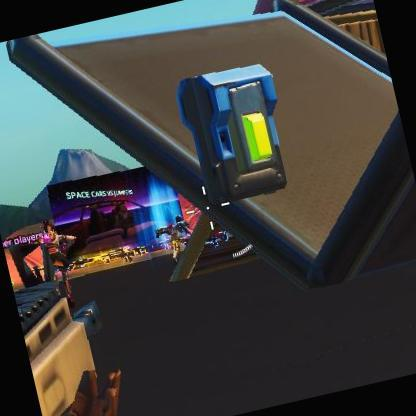person: (33, 212, 89, 309), (164, 213, 192, 254)
